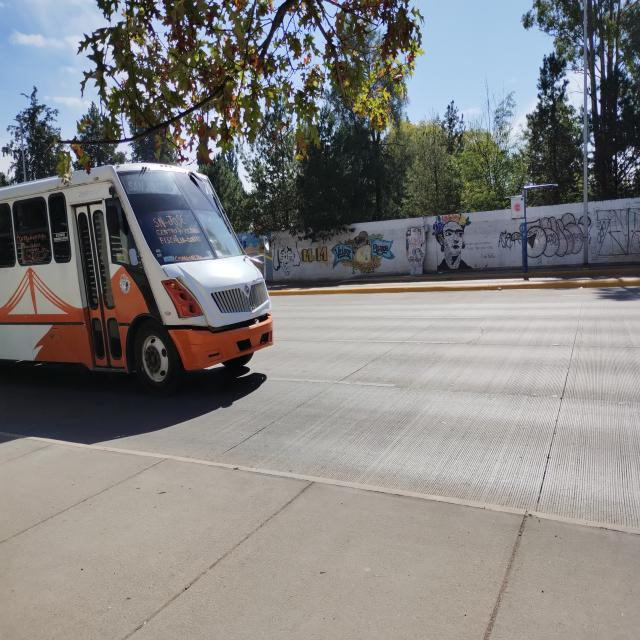Autobus: (0, 160, 279, 398)
